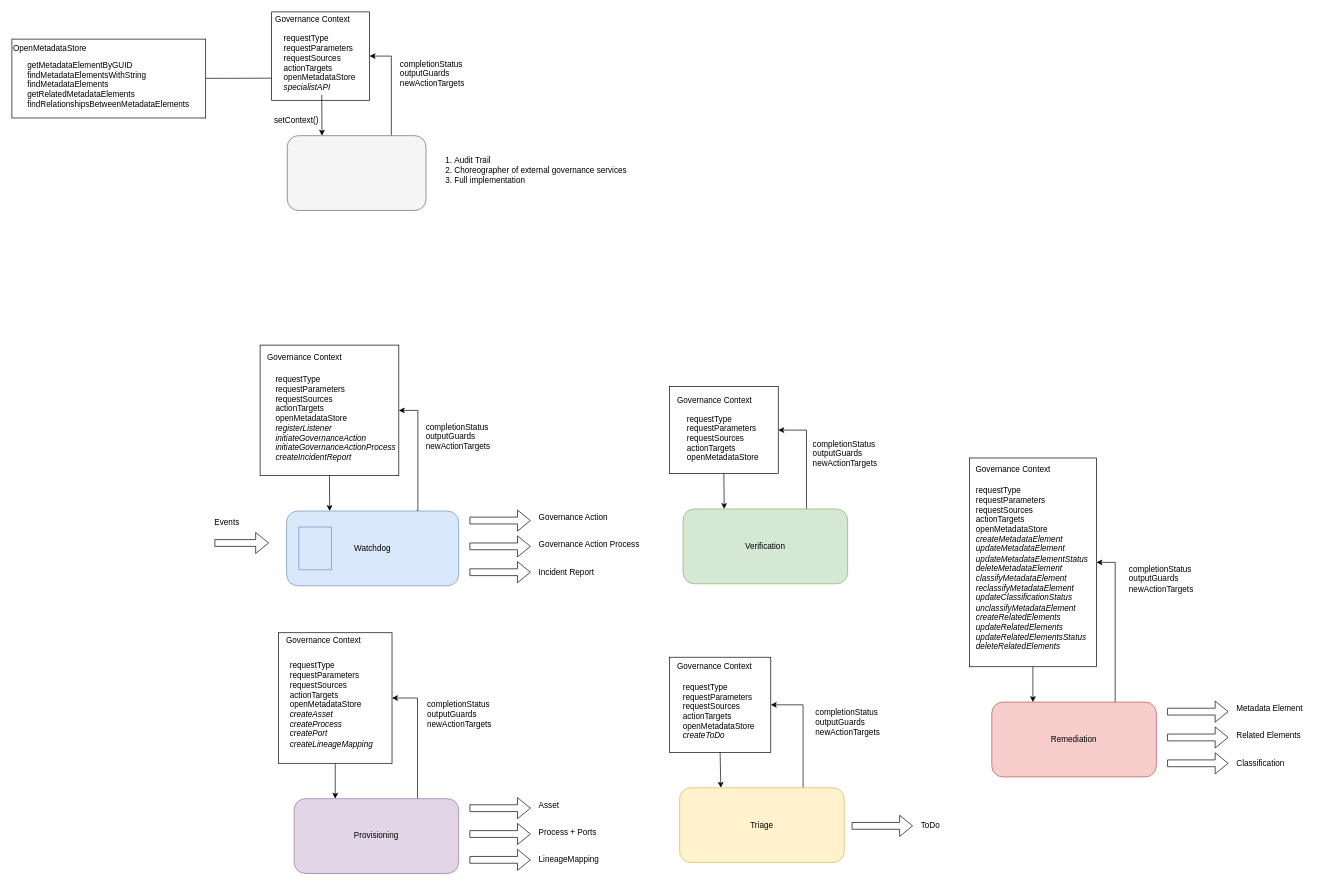
Some shapes in this 1320 by 885 pixel diagram are drawn without their labels. The centre of each missing label's shape, as x and y in pixels:
"Governance Action Service" goes at point (356, 172).
"Listener" goes at point (315, 548).
